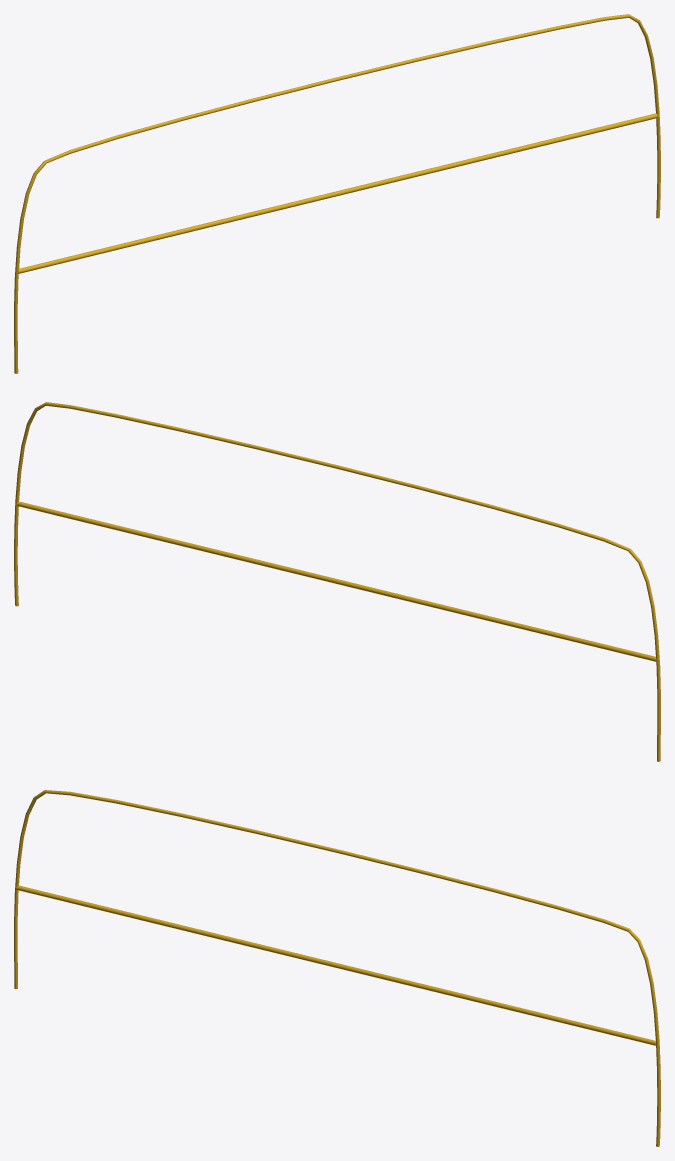
Rendered from GuardRail.fbx.
3 renders of one model, top to bottom at view 1: azimuth 30°, elevation 25°; view 2: azimuth 150°, elevation 25°; view 3: azimuth 330°, elevation 25°, orthographic.
Parts seen in each view (by area): view 1: Safety_Training_Assets__1_:GuardRail1; view 2: Safety_Training_Assets__1_:GuardRail1; view 3: Safety_Training_Assets__1_:GuardRail1.
Part boxes in pixels (<box>): Safety_Training_Assets__1_:GuardRail1: <box>14,14,660,373</box>; Safety_Training_Assets__1_:GuardRail1: <box>14,402,660,761</box>; Safety_Training_Assets__1_:GuardRail1: <box>14,790,660,1146</box>.
Bounding box in the file's own units: 16.62 × 5.37 × 0.1107.
